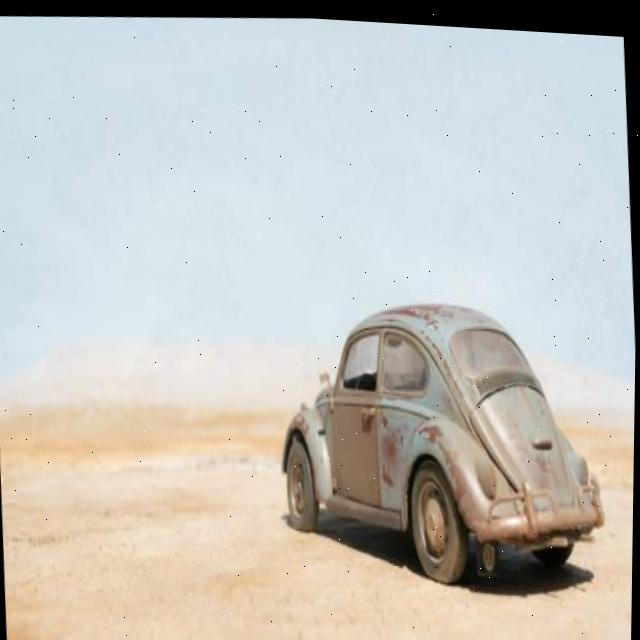vehicle: (267, 288, 613, 601)
